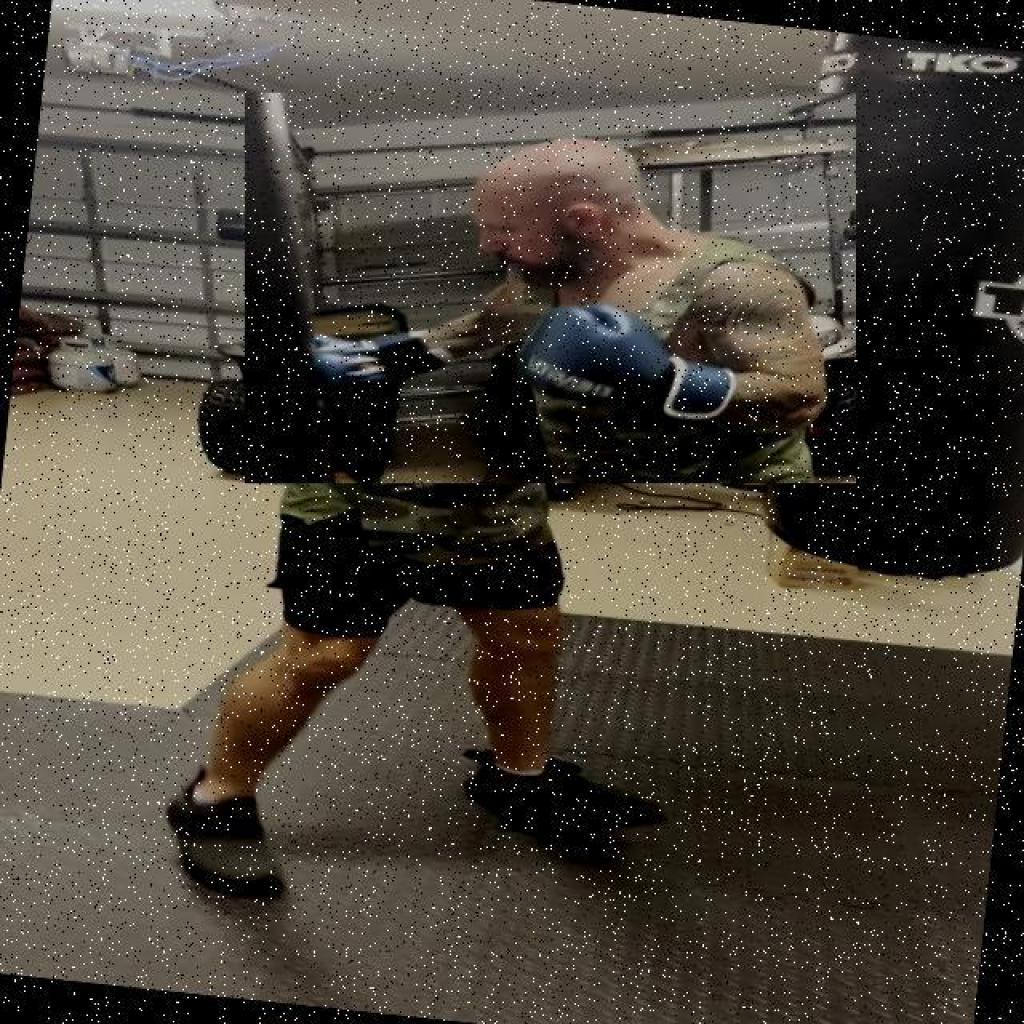bag: (758, 29, 1024, 587)
hook: (245, 93, 856, 482)
